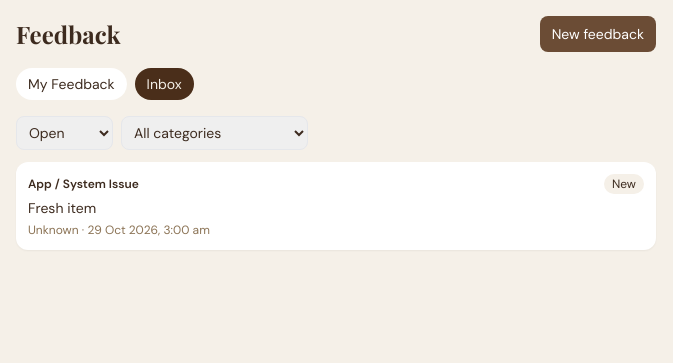
it: FeedbackPage › Inbox hides resolved by default and All shows them
Expected: the text "Fresh item" is shown, [28,199,96,217]
Expected: the text "Done item" is not shown
Select "All" in the dropdown named "Filter by status" at (64, 133), box [16,116,113,150]
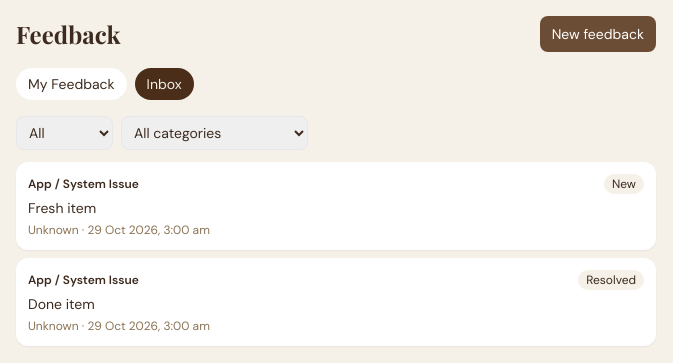
Expected: the text "Fresh item" is shown, [28,199,96,217]
Result: the text "Done item" is shown at [28,295,95,313]
